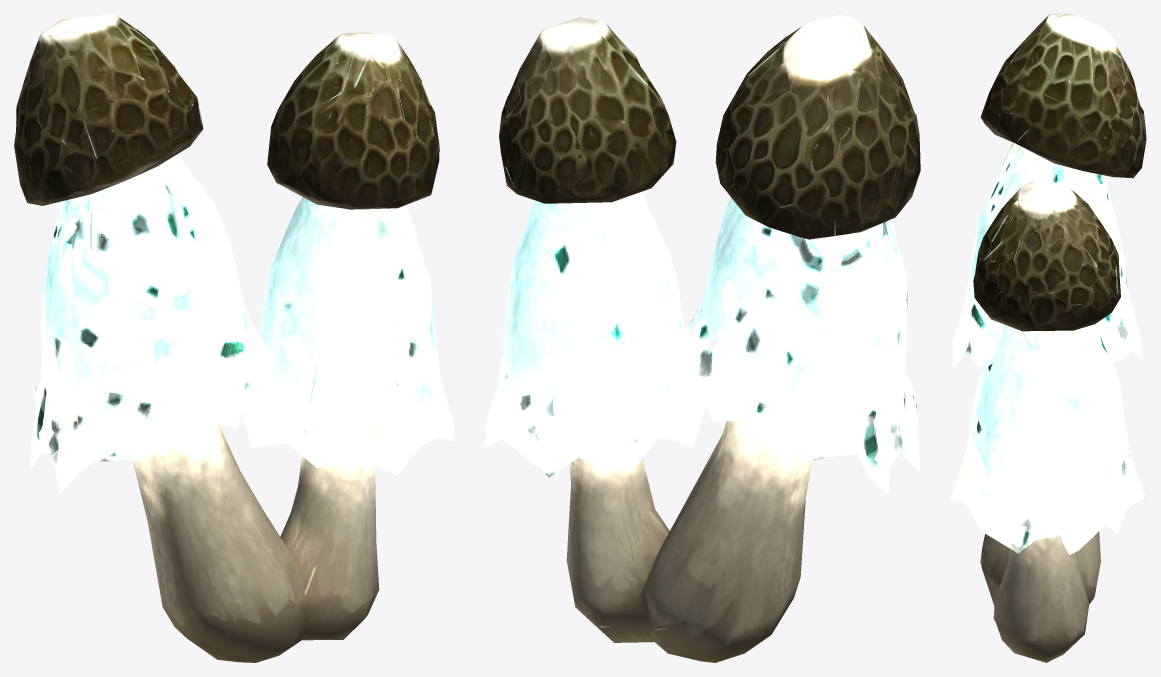
3 renders of one model, left to right at view 1: azimuth 30°, elevation 25°; view 2: azimuth 150°, elevation 25°; view 3: azimuth 270°, elevation 25°, orthographic. The views are drawn at different scales.
Parts seen in each view (by area): view 1: Mesh_0; view 2: Mesh_0; view 3: Mesh_0.
Part boxes in pixels (x1=…): Mesh_0: x1=14, y1=14, x2=454, y2=662; Mesh_0: x1=483, y1=14, x2=920, y2=662; Mesh_0: x1=949, y1=14, x2=1146, y2=662.
Bounding box in the file's own units: 1.22 × 1.92 × 0.6221.
Materials: 1 (1 with a texture image).
